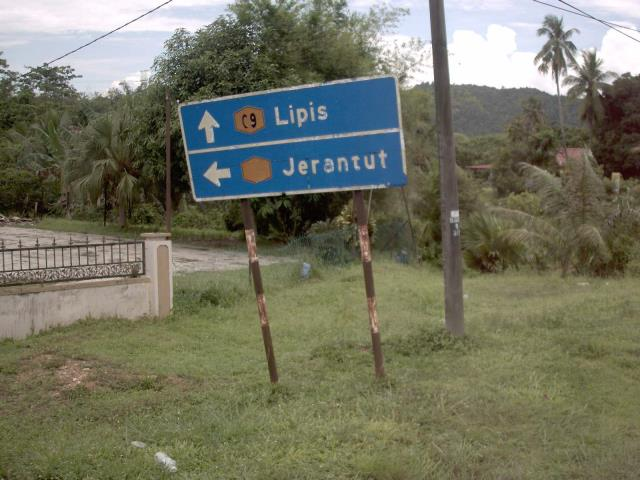traffic_sign: (169, 71, 416, 215)
